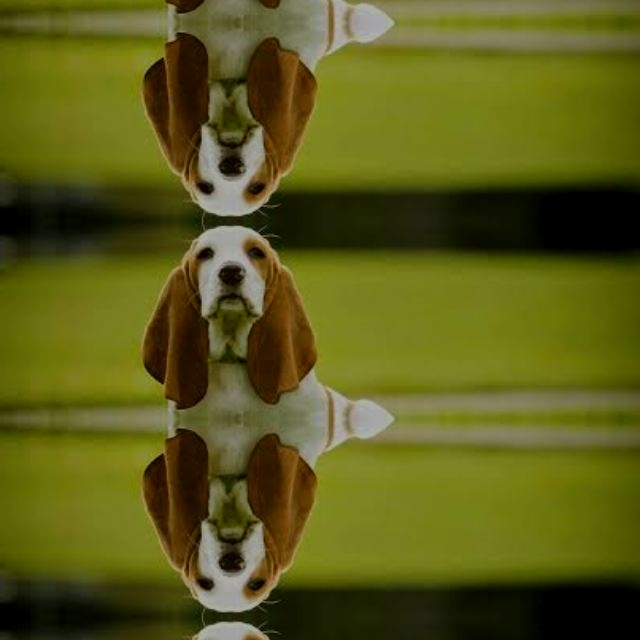dog: (133, 226, 319, 412), (133, 28, 319, 214), (133, 425, 319, 611), (133, 623, 319, 640), (133, 0, 319, 15)
